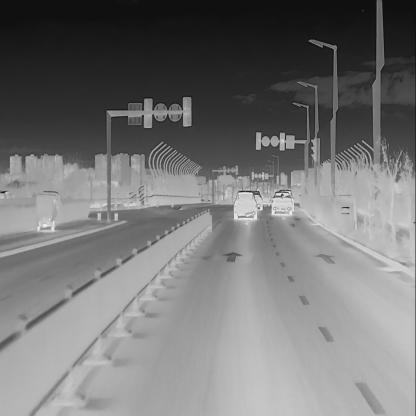car: (33, 188, 59, 234), (232, 188, 259, 222), (270, 190, 292, 216), (278, 187, 295, 212), (251, 190, 264, 210)
